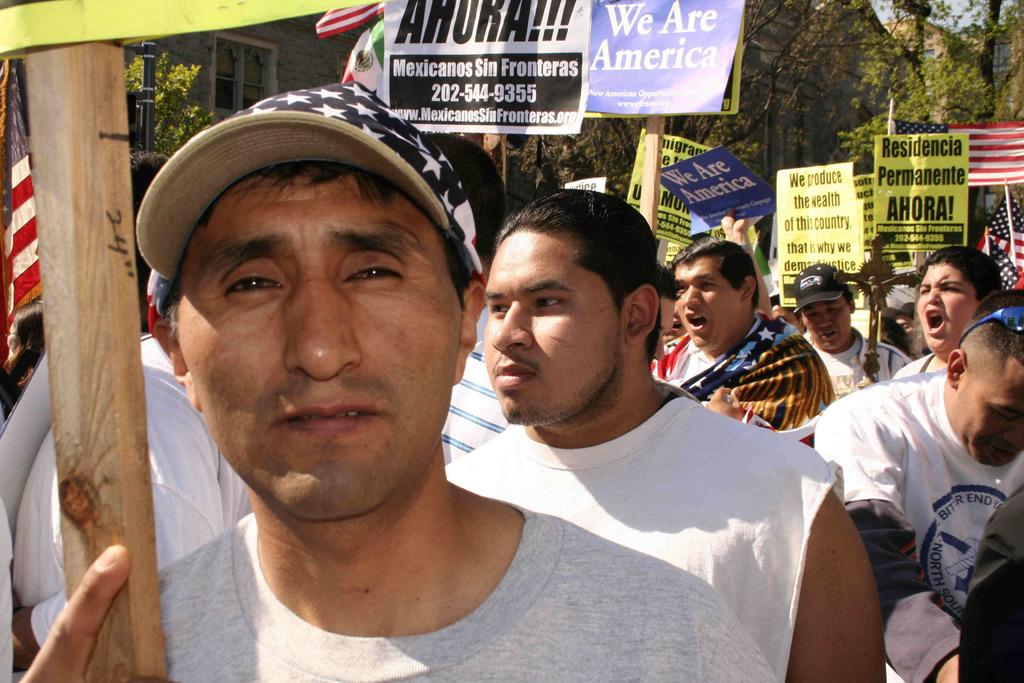Hat: (135, 82, 486, 284), (792, 260, 852, 316)
